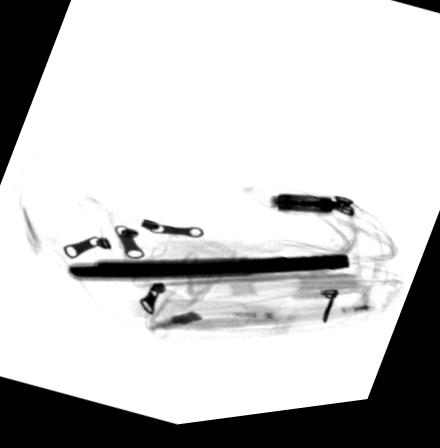Pliers: (65, 260, 350, 283)
